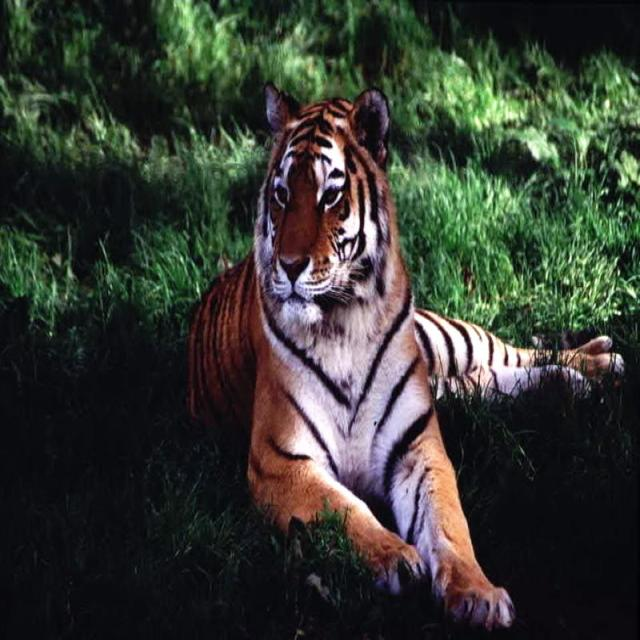Tiger: (172, 76, 625, 626)
